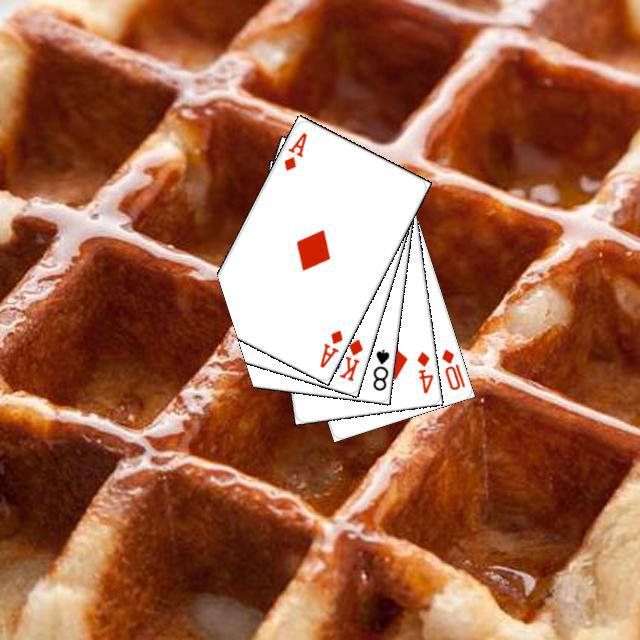10d: (437, 344, 467, 392)
4d: (412, 347, 435, 395)
8s: (368, 344, 391, 392)
Ad: (315, 325, 345, 370), (279, 127, 309, 172)
Kd: (334, 334, 365, 383)
